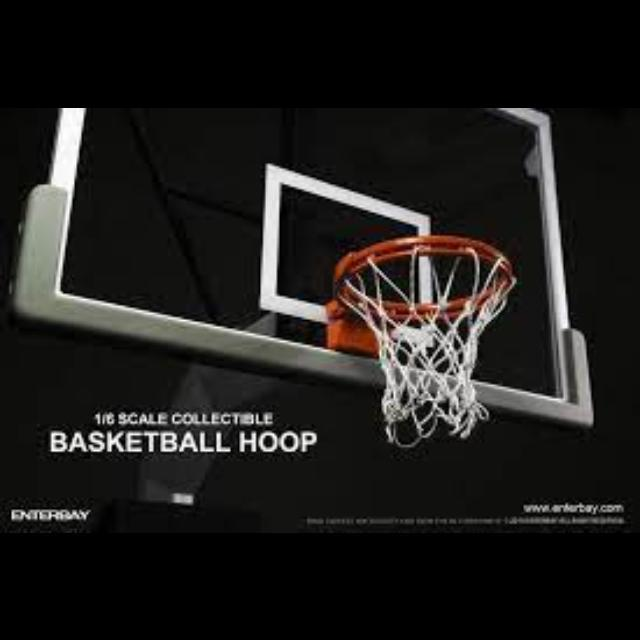rim: (334, 235, 512, 440)
